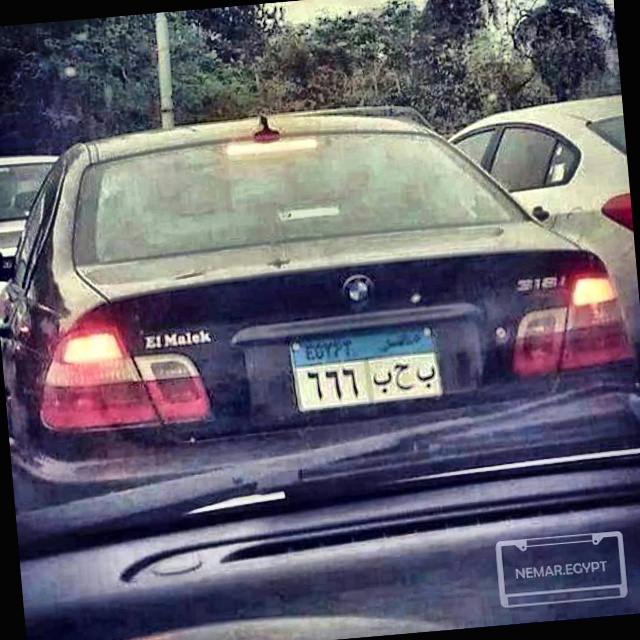License Plate: (286, 321, 449, 416)
